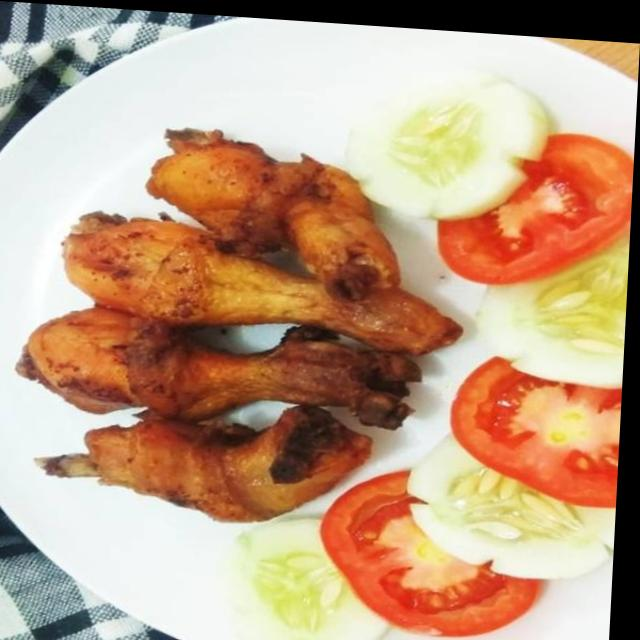CHICKEN FRY: (22, 129, 464, 520)
